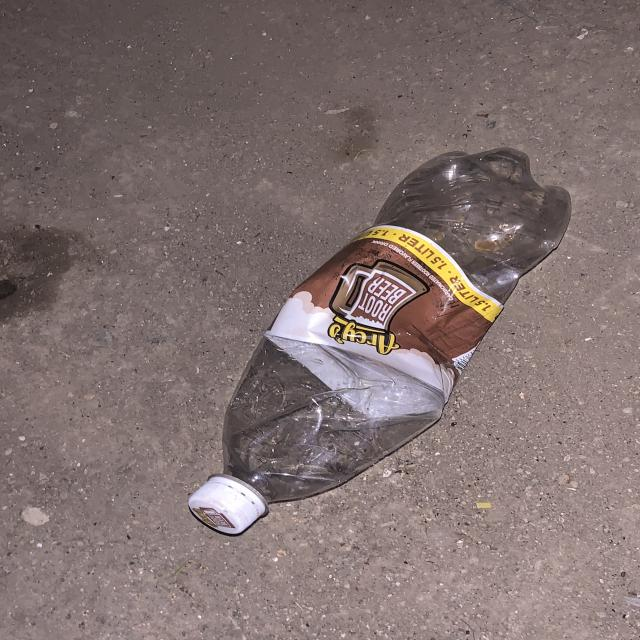Bottle: (189, 148, 571, 536)
